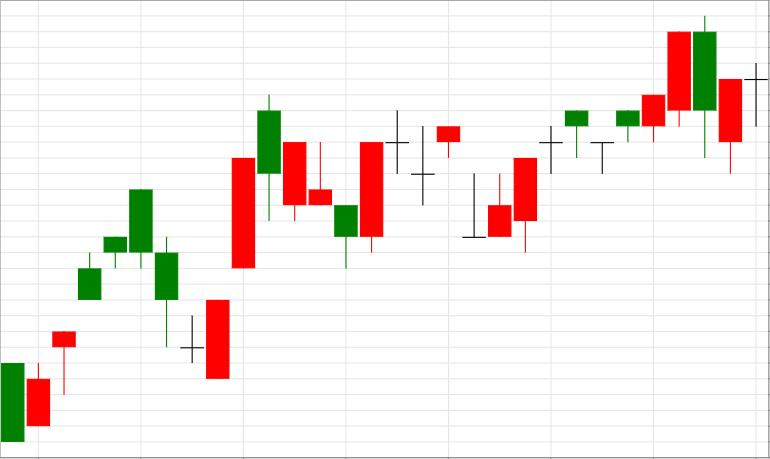bearish_engulfing_fall: (591, 16, 717, 174)
